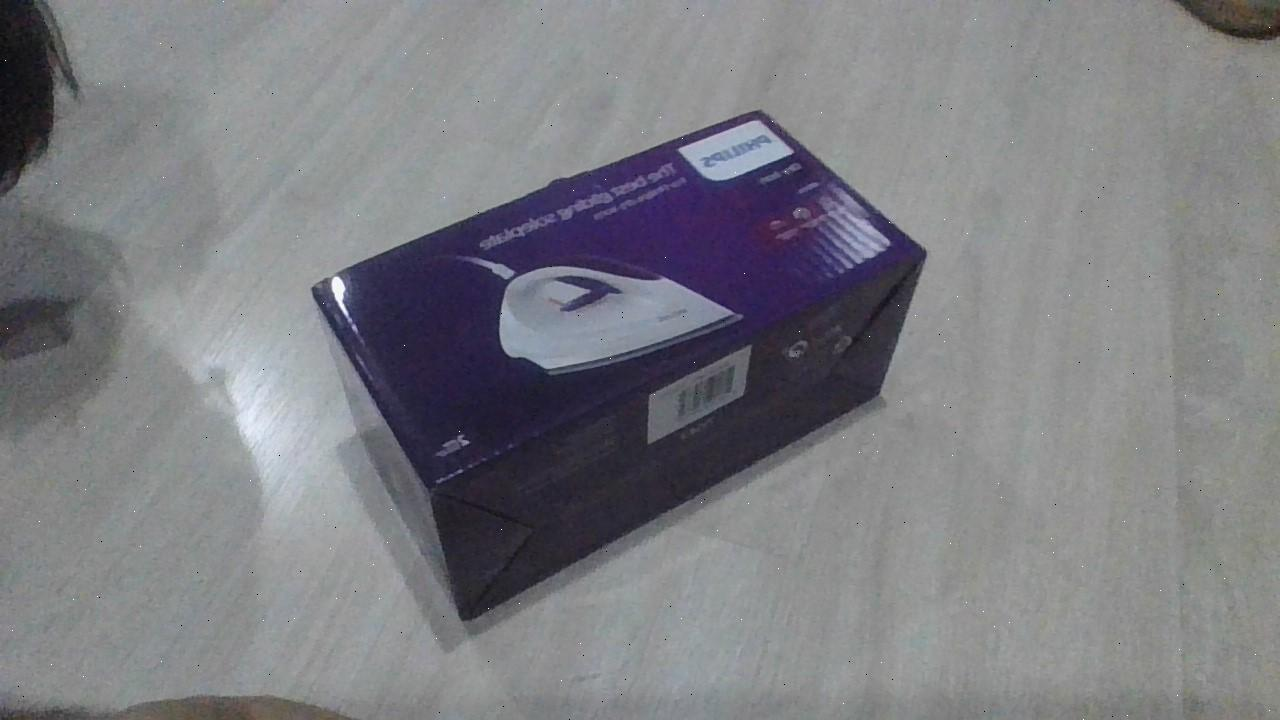IRON: (308, 105, 932, 634)
